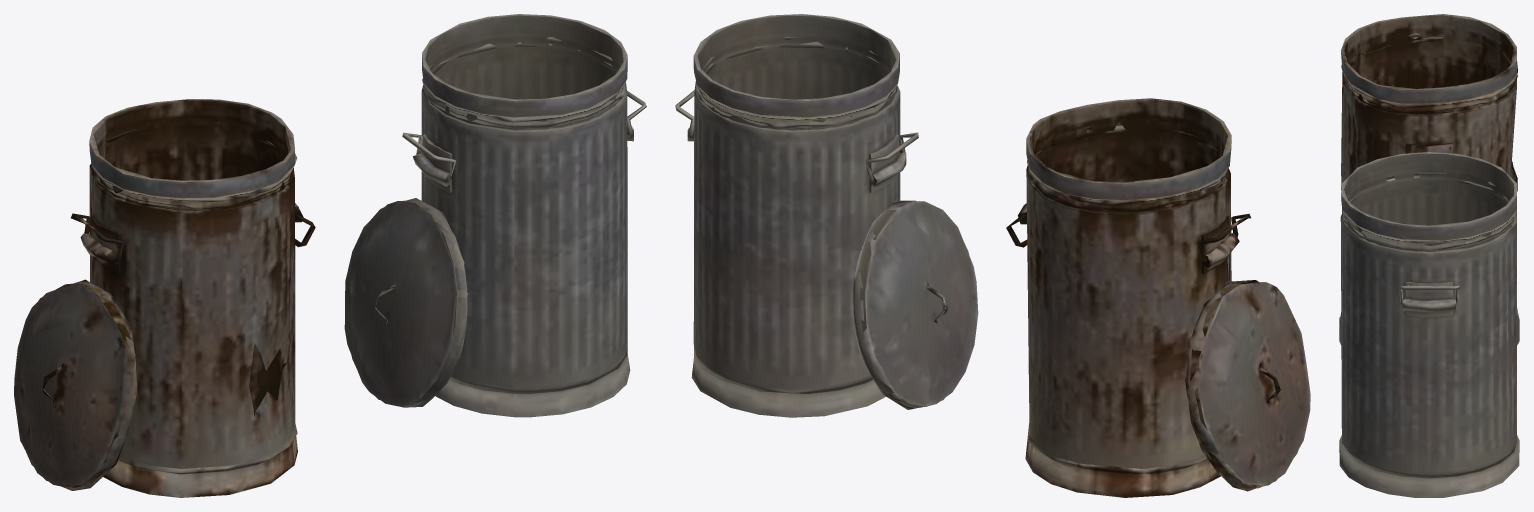
Rendered from metal_trash_can.glb.
3 renders of one model, left to right at view 1: azimuth 30°, elevation 25°; view 2: azimuth 150°, elevation 25°; view 3: azimuth 270°, elevation 25°, orthographic. The views are drawn at different scales.
Visible parts, largest first — view 1: metal_trash_can, metal_trash_can_rust, metal_trash_can_lid, metal_trash_can_rust_lid; view 2: metal_trash_can, metal_trash_can_rust, metal_trash_can_lid, metal_trash_can_rust_lid; view 3: metal_trash_can, metal_trash_can_rust, metal_trash_can_handle_right.
Part boxes in pixels (<box>): metal_trash_can: <box>413,14,633,417</box>; metal_trash_can_rust: <box>80,99,303,497</box>; metal_trash_can_lid: <box>344,198,468,407</box>; metal_trash_can_rust_lid: <box>14,279,137,490</box>; metal_trash_can: <box>687,14,906,417</box>; metal_trash_can_rust: <box>1018,98,1239,497</box>; metal_trash_can_lid: <box>852,200,978,409</box>; metal_trash_can_rust_lid: <box>1184,280,1310,491</box>; metal_trash_can: <box>1339,152,1519,497</box>; metal_trash_can_rust: <box>1340,14,1519,318</box>; metal_trash_can_handle_right: <box>1399,285,1459,304</box>.
Bounding box in the file's own units: 1.78 × 0.9062 × 0.548.
Materials: 2 (2 with a texture image).
